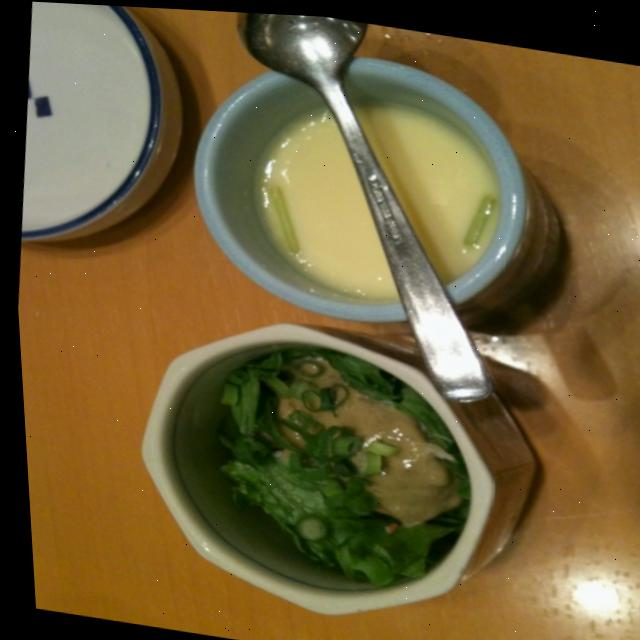鸡蛋料理: (173, 23, 573, 351)
